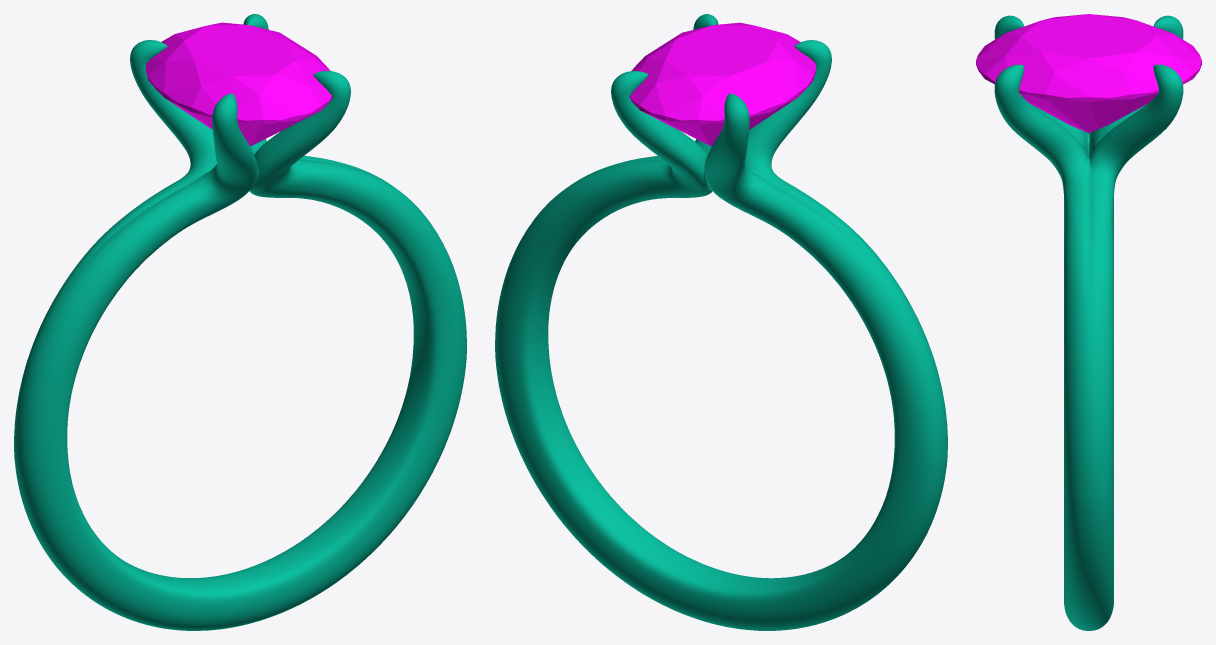
The model's file is BE1443_OV_200ct_RENDER.glb.
3 views of the same model, side by side, from view 1: azimuth 30°, elevation 25°; view 2: azimuth 150°, elevation 25°; view 3: azimuth 270°, elevation 25° (orthographic).
Visible parts, largest first — view 1: Metal 01, CS_Diamond_Oval; view 2: Metal 01, CS_Diamond_Oval; view 3: Metal 01, CS_Diamond_Oval.
Boxes of the visible parts, box(x1,y1,x2,y2) form: Metal 01: box(14, 14, 466, 630); CS_Diamond_Oval: box(145, 22, 332, 146); Metal 01: box(495, 14, 947, 630); CS_Diamond_Oval: box(629, 22, 816, 146); Metal 01: box(994, 15, 1183, 630); CS_Diamond_Oval: box(976, 14, 1201, 132).
Size of the model in its own units: 20.48 by 25.1 by 9.
